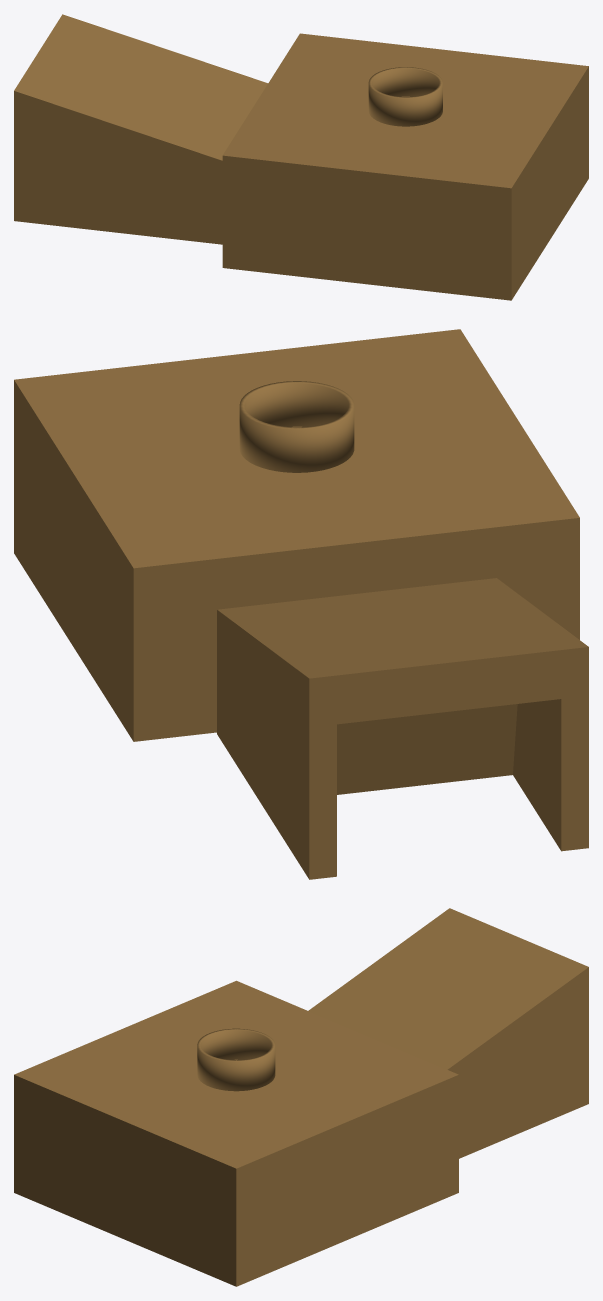
File: platform-non-compressed.glb
3 views of the same model, one above another, from view 1: azimuth 30°, elevation 25°; view 2: azimuth 150°, elevation 25°; view 3: azimuth 270°, elevation 25° (orthographic). The views are drawn at different scales.
Parts seen in each view (by area): view 1: platform, flame tunnel, stand ring; view 2: platform, flame tunnel, stand ring; view 3: platform, flame tunnel, stand ring.
Part boxes in pixels (x1=…): platform: x1=222, y1=33, x2=588, y2=300; flame tunnel: x1=14, y1=14, x2=267, y2=244; stand ring: x1=368, y1=67, x2=442, y2=126; platform: x1=14, y1=329, x2=579, y2=741; flame tunnel: x1=217, y1=578, x2=588, y2=879; stand ring: x1=239, y1=381, x2=354, y2=472; platform: x1=14, y1=980, x2=458, y2=1286; flame tunnel: x1=308, y1=908, x2=588, y2=1158; stand ring: x1=197, y1=1028, x2=275, y2=1091.
Size of the model in its own units: 29.45 by 8.41 by 29.45.
